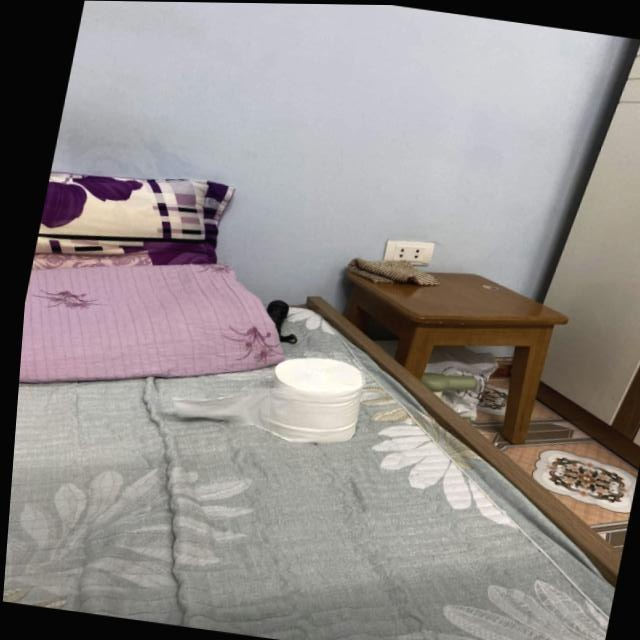outlet: (380, 237, 435, 270)
